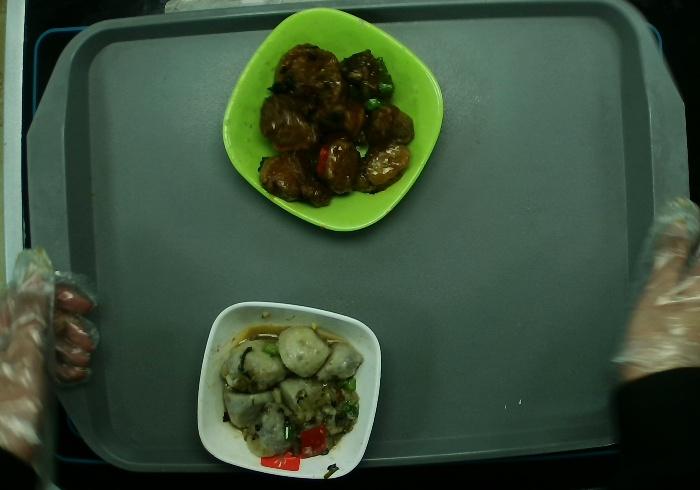SHKJ-Bai_Se_Xiao_Fang_Die: (193, 300, 383, 480)
SHKJ-Lv_Se_Cai_Die: (223, 8, 450, 234)
